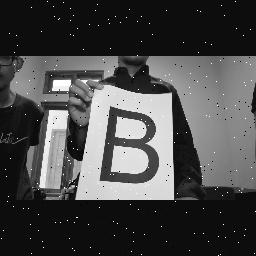b: (98, 102, 162, 194)
